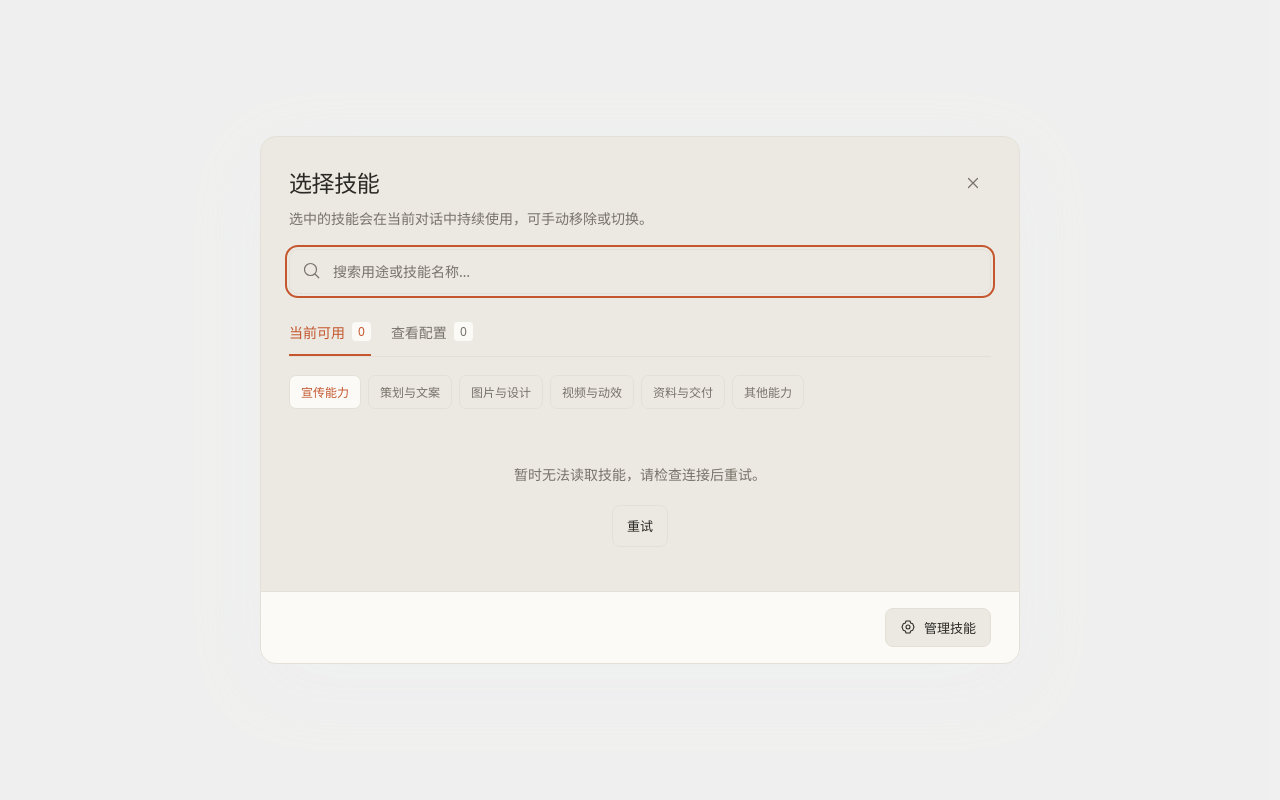
it: picker exits a failed catalog check and retries in place without losing search
Check: the message "暂时无法读取技能，请检查连接后重试。 重试" is shown, box [514,465,766,547]
Click the button "重试" at (640, 526), box [612,505,668,547]
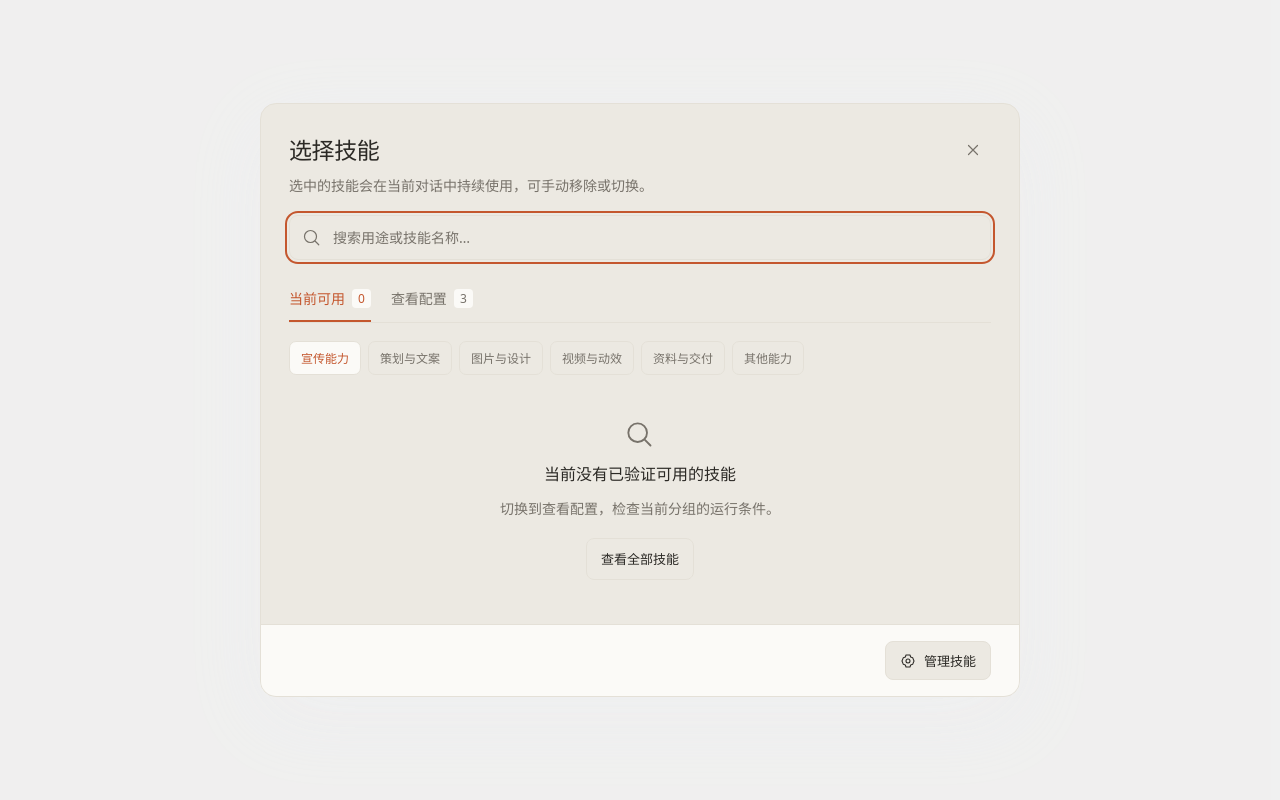
Check: the message "暂时无法读取技能，请检查连接后重试。 重试" is gone
